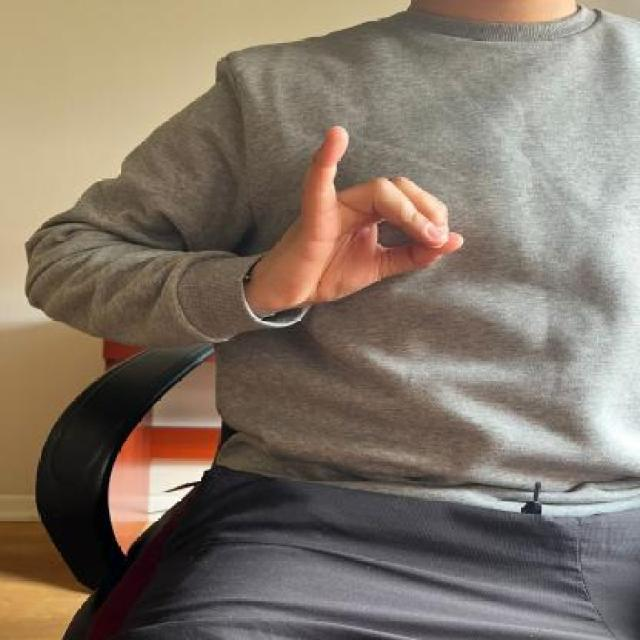D: (265, 120, 470, 305)
